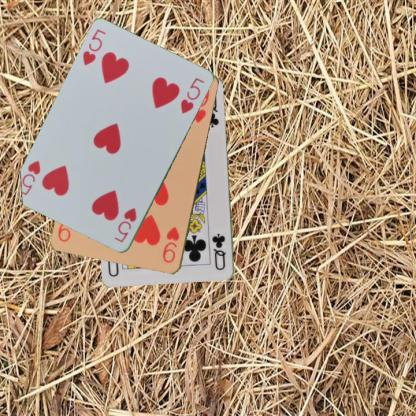5h: (80, 26, 107, 68), (112, 205, 138, 245)
9h: (160, 224, 181, 265)
Qc: (209, 231, 228, 272)
